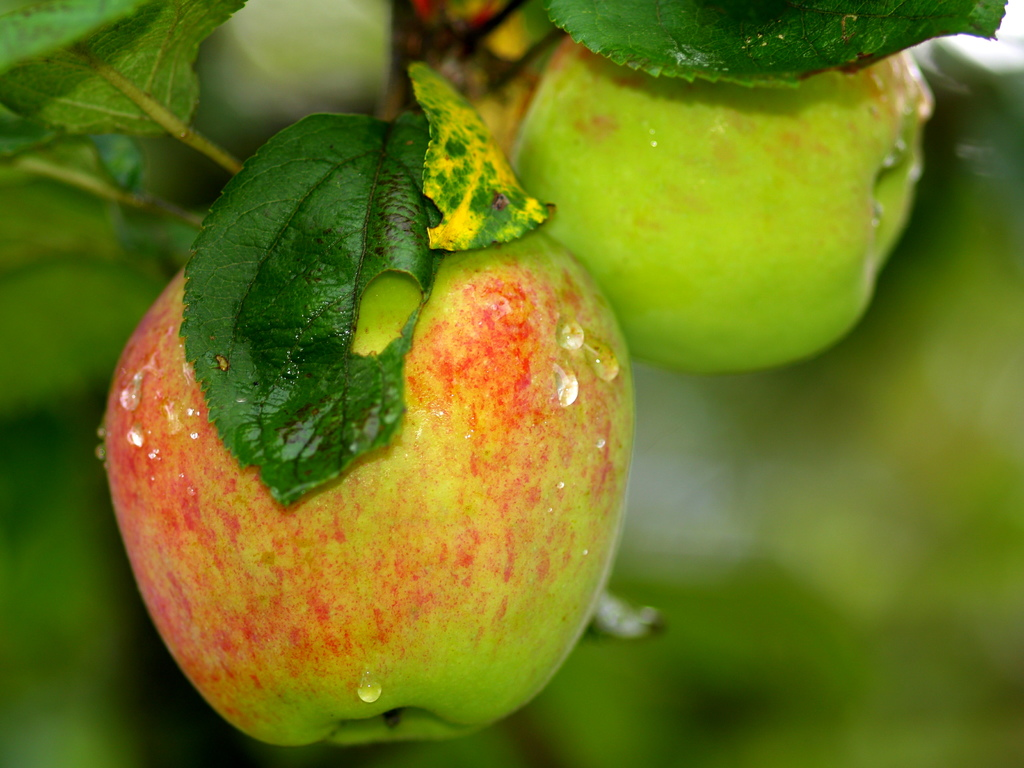Apple: (115, 177, 668, 767), (513, 44, 936, 380), (128, 0, 398, 206)
